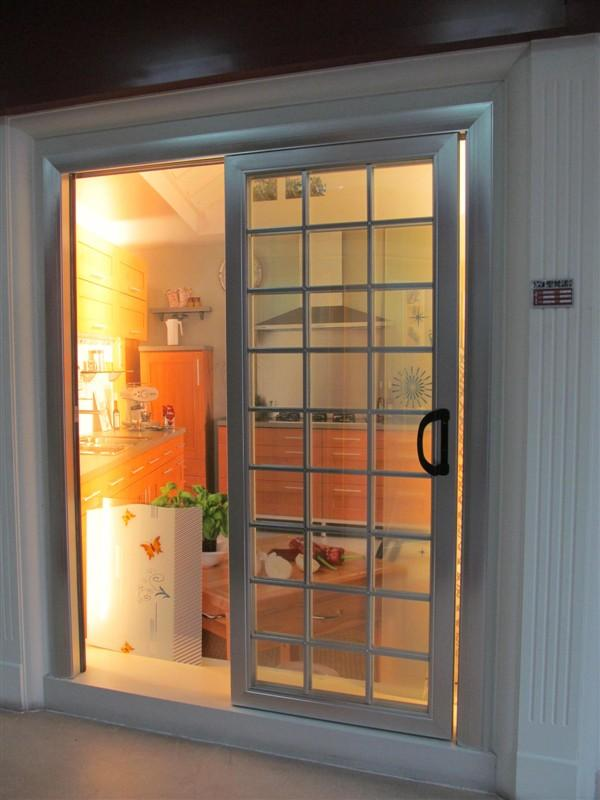door: (224, 139, 464, 737)
